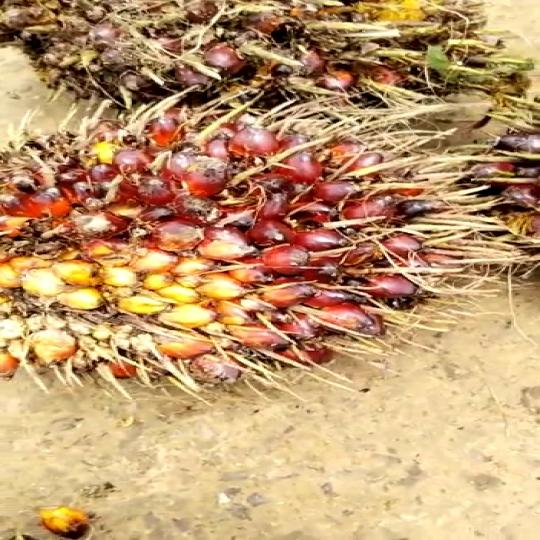masak: (0, 97, 496, 394)
